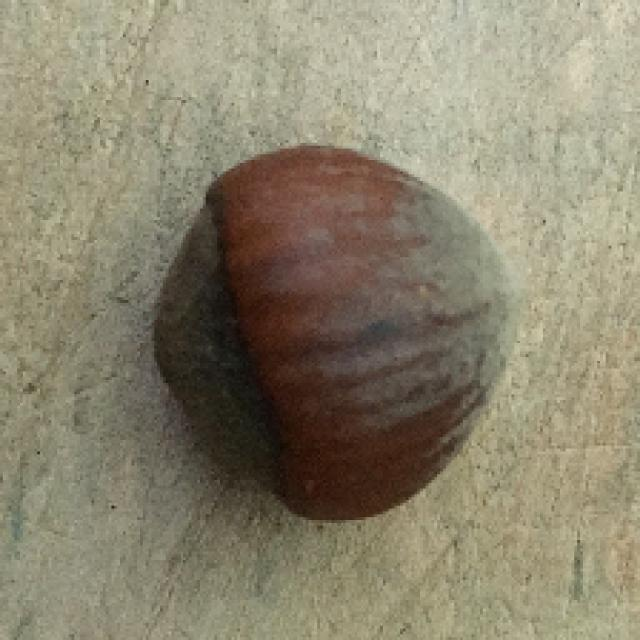qualityHazelnut: (150, 142, 516, 519)
